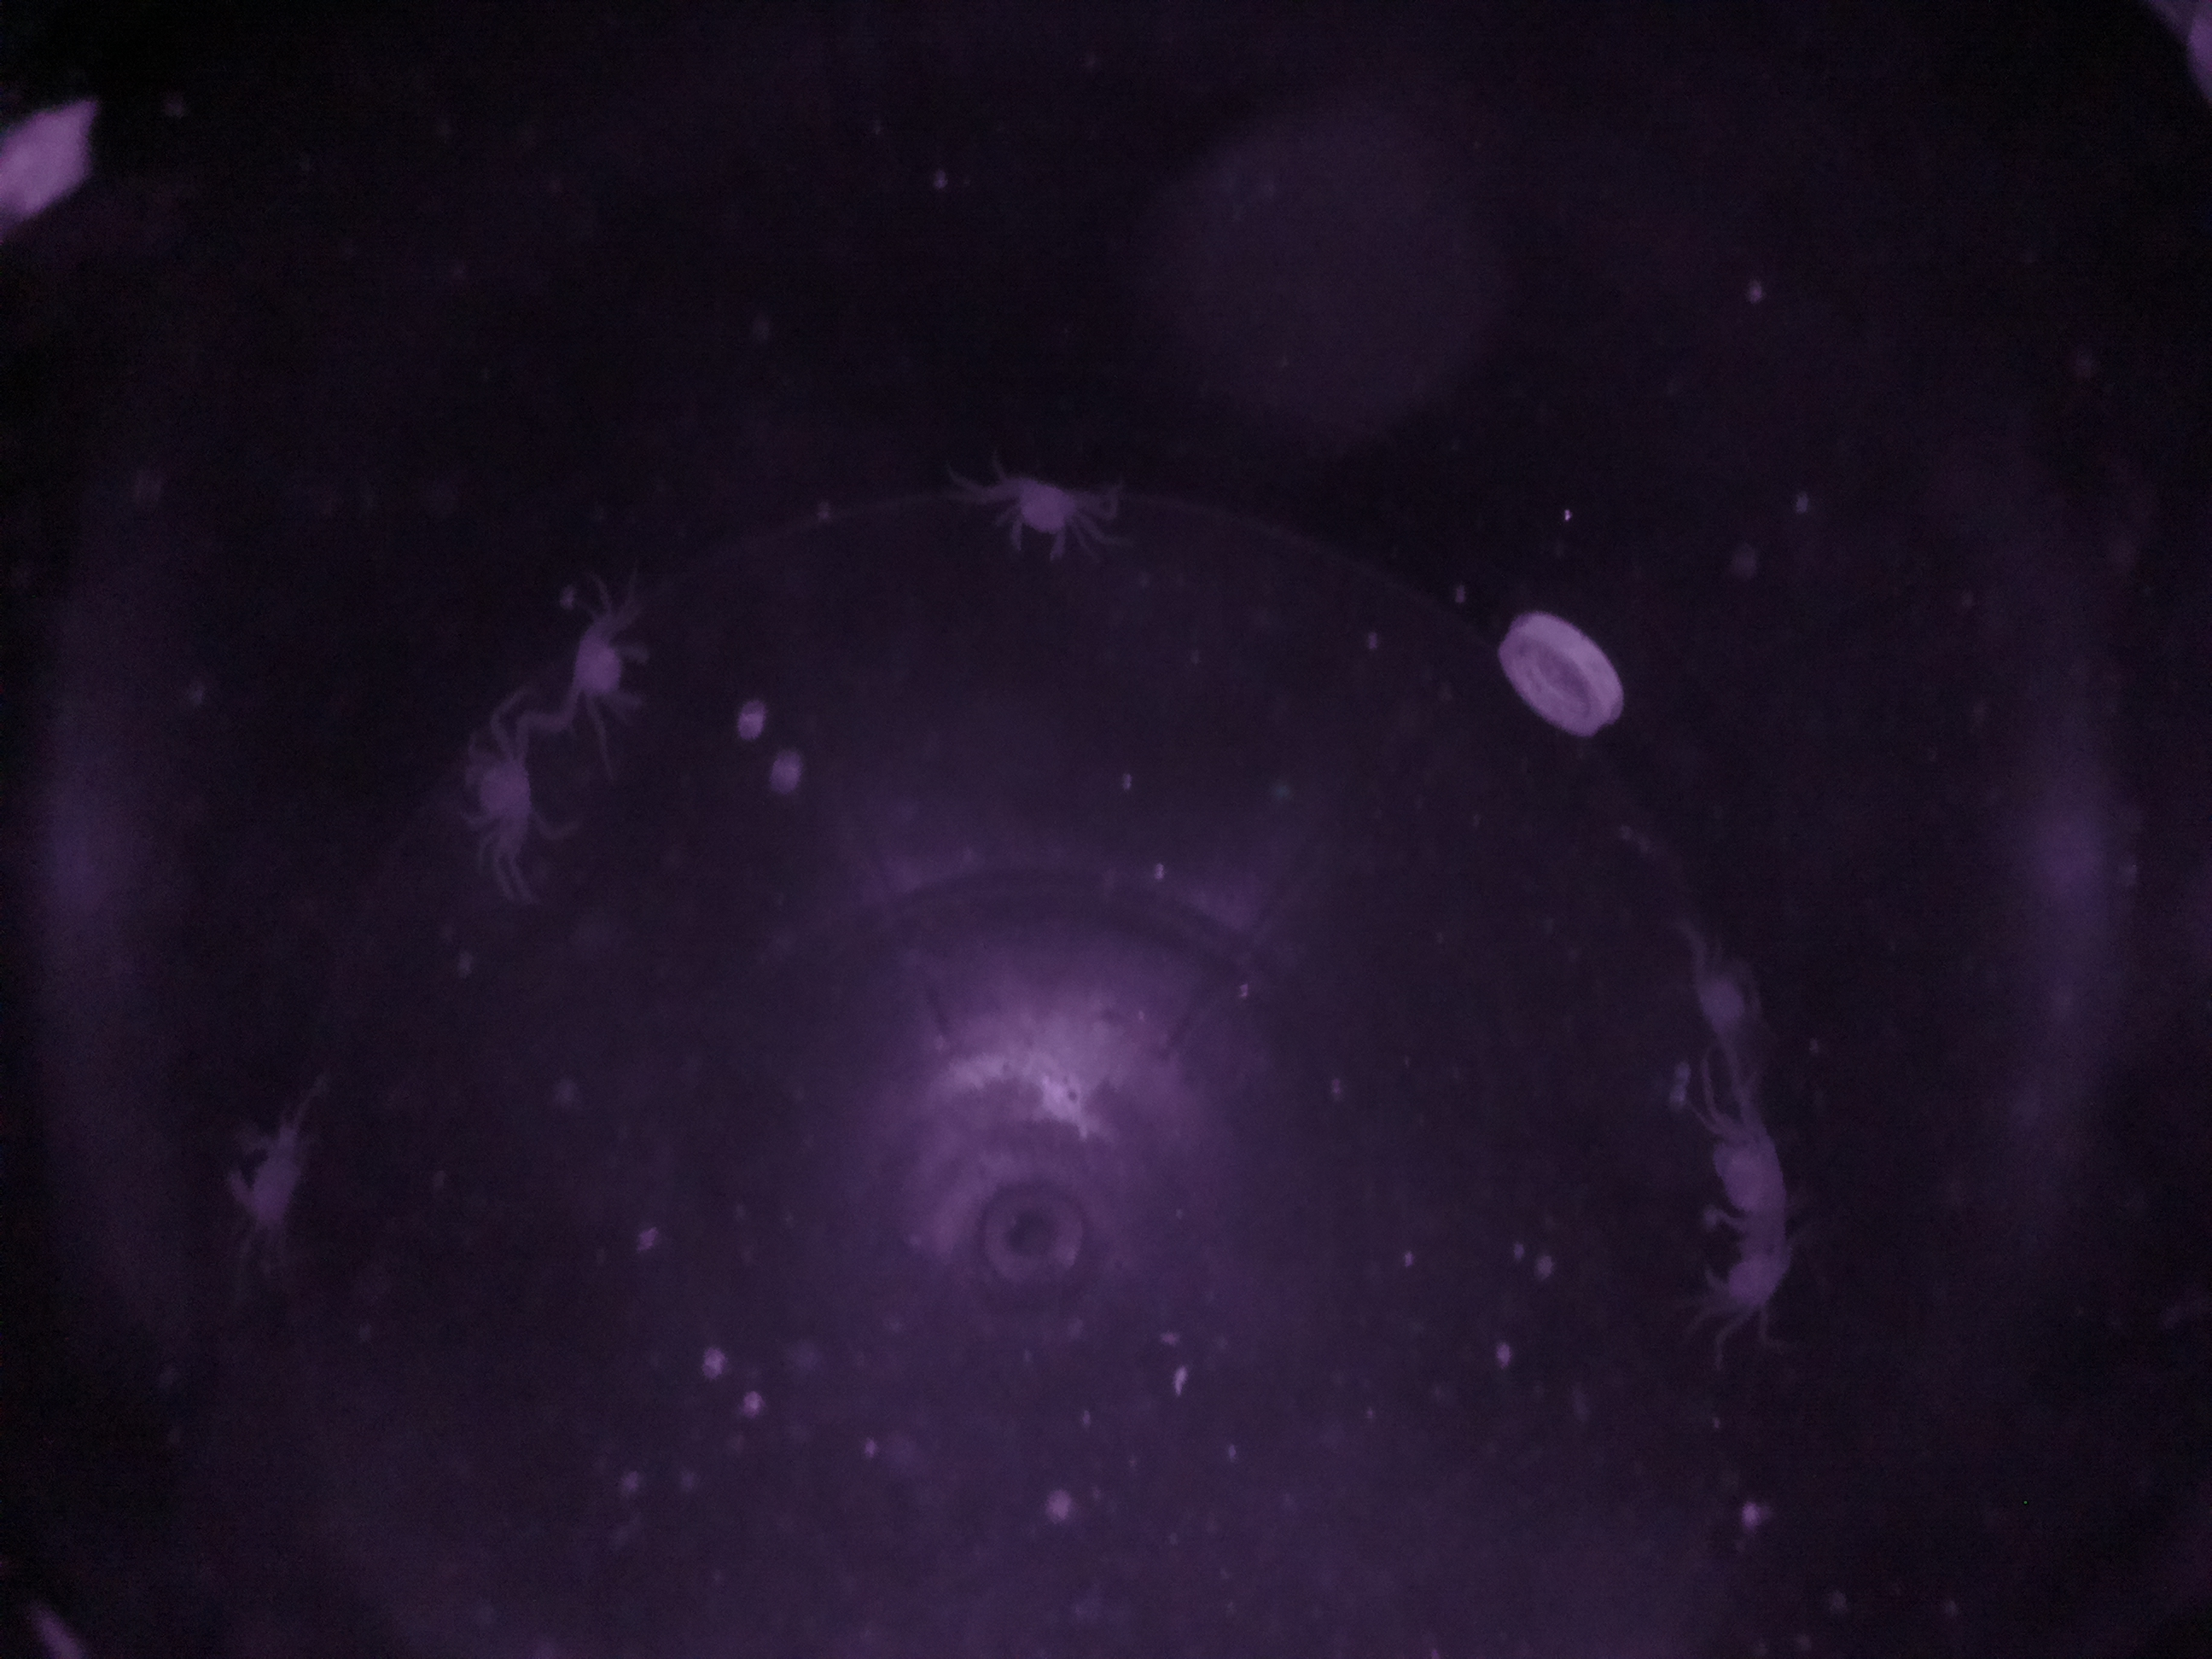Crab: (542, 610, 681, 741)
